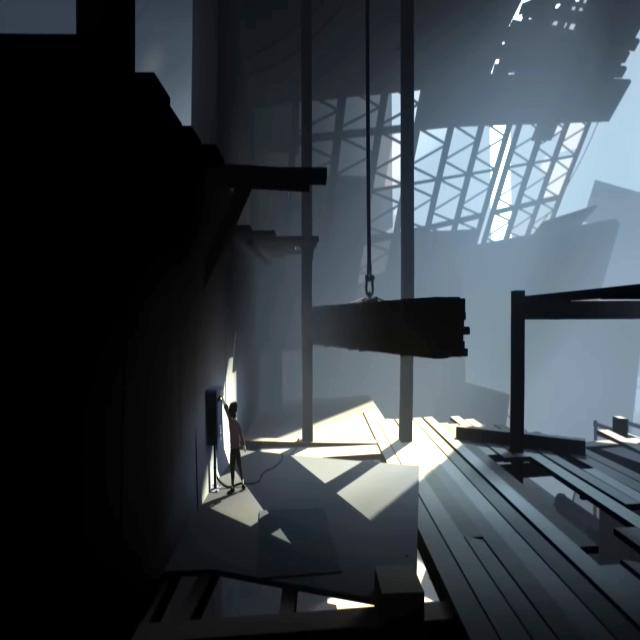boy: (220, 390, 247, 495)
